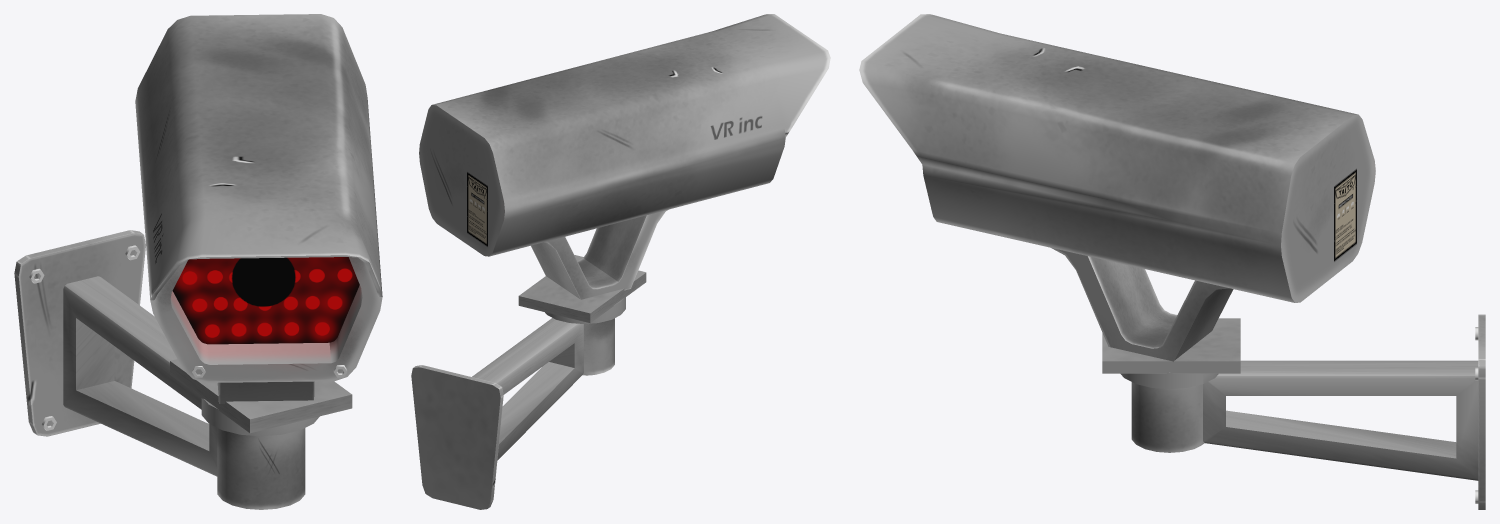
File: Camara de seguridad.fbx
3 renders of one model, left to right at view 1: azimuth 30°, elevation 25°; view 2: azimuth 150°, elevation 25°; view 3: azimuth 270°, elevation 25°, orthographic. The views are drawn at different scales.
Parts seen in each view (by area): view 1: Camara, Tornillos_soporte; view 2: Camara; view 3: Camara.
Part boxes in pixels (box(x1,y1,x2,y2)): Camara: box(14, 14, 382, 509); Tornillos_soporte: box(29, 245, 140, 430); Camara: box(411, 14, 830, 509); Camara: box(859, 14, 1485, 509).
Bounding box in the file's own units: 41.52 × 46.72 × 67.21.
